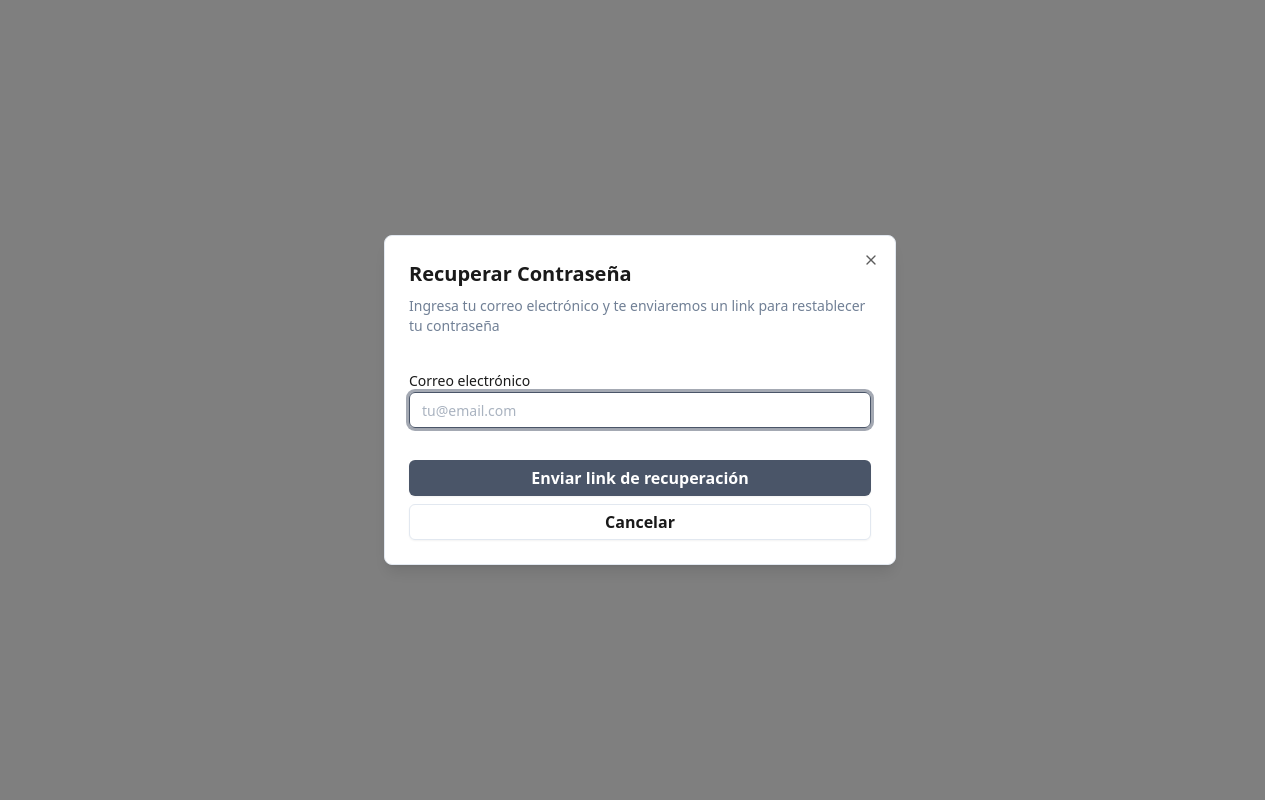
it: PasswordRecoveryDialog › asks Supabase for a link for the address typed in and confirms it was sent
Step 1. Type "duena@tienda.test" into the field labelled "Correo electrónico" → (640,410), box [409,392,871,428]
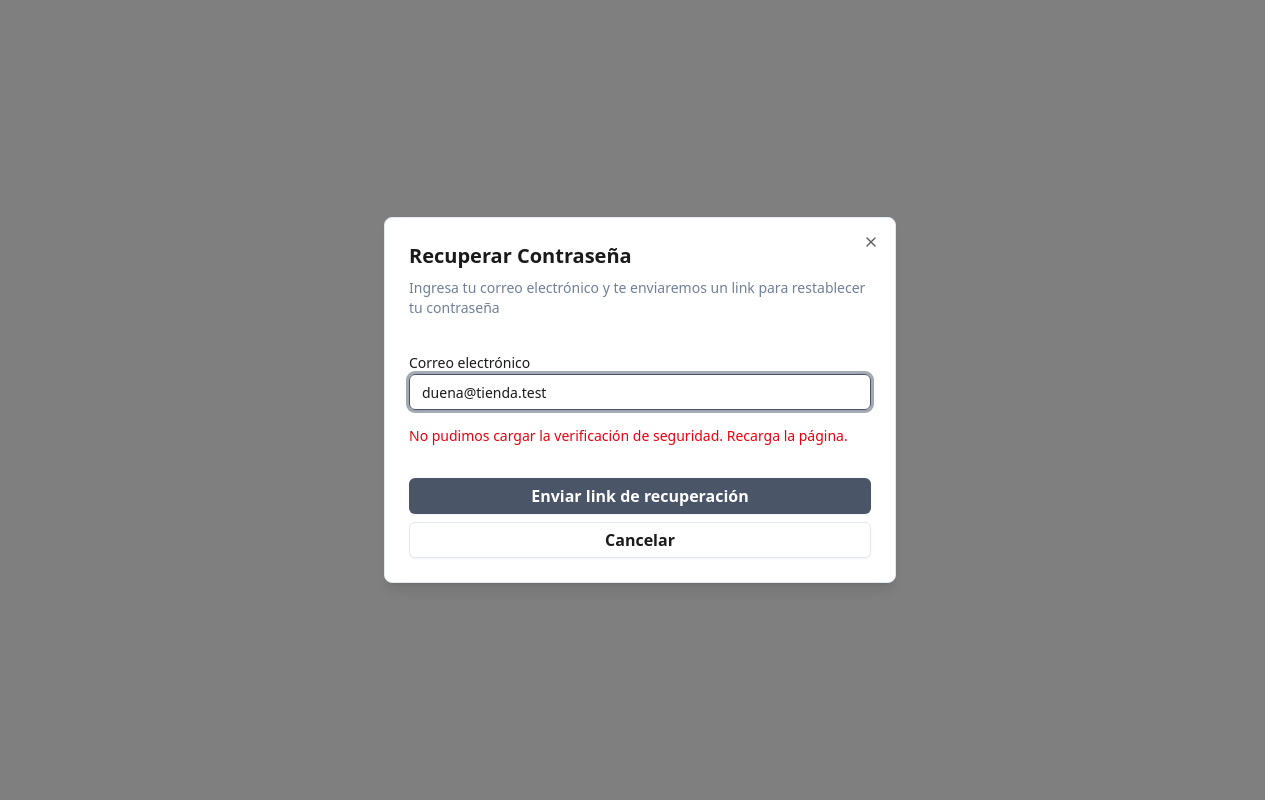
Step 2. Click the button "Enviar link de recuperación" → (640,496), box [409,478,871,514]
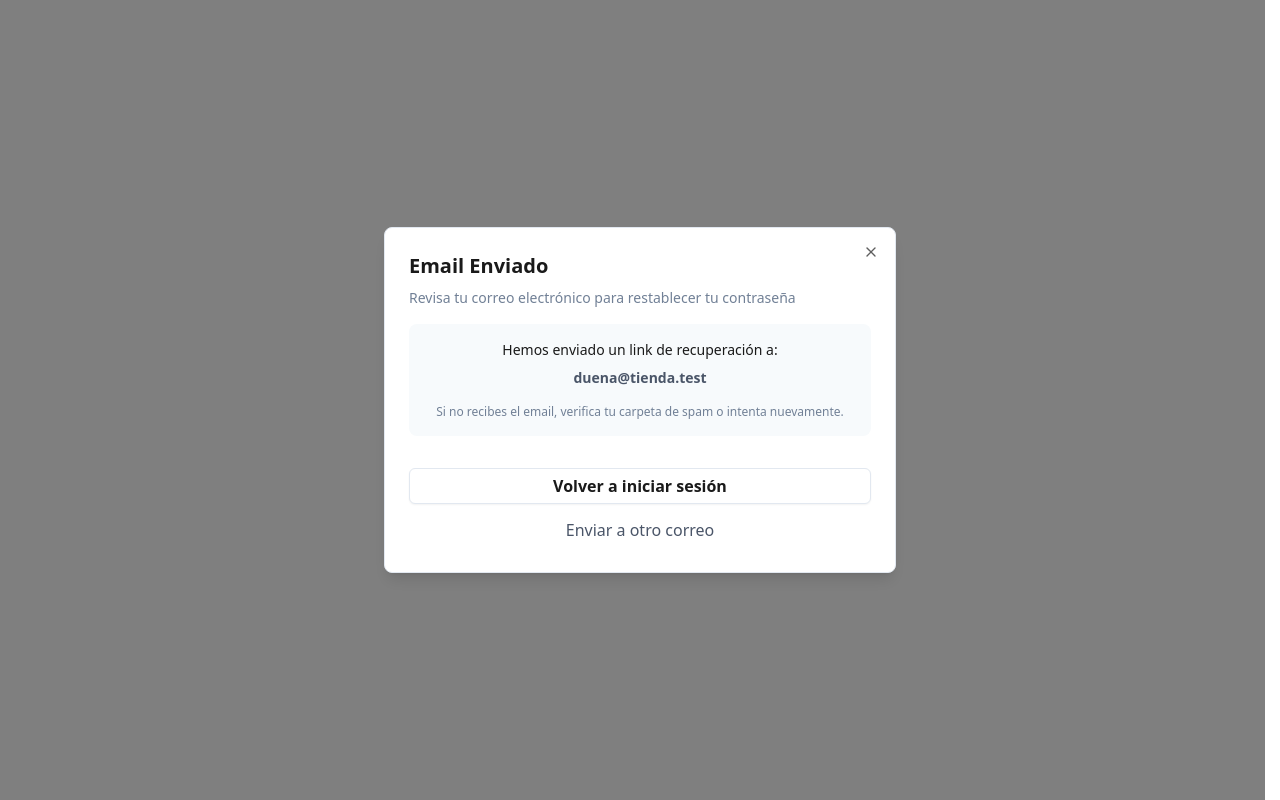
Expected: the heading "Email Enviado" is shown, [409,252,548,279]
Expected: the text "duena@tienda.test" is shown, [574,368,707,387]
